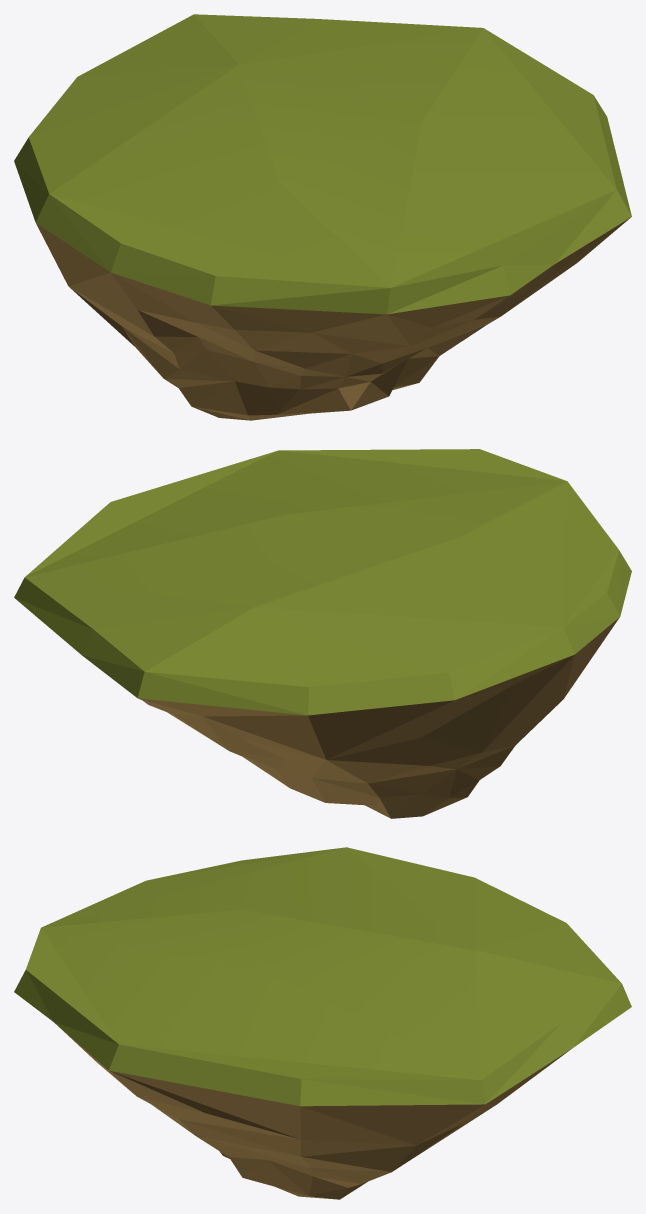
Rendered from Floating Island.fbx.
3 renders of one model, top to bottom at view 1: azimuth 30°, elevation 25°; view 2: azimuth 150°, elevation 25°; view 3: azimuth 270°, elevation 25°, orthographic. The views are drawn at different scales.
Parts seen in each view (by area): view 1: polySurface1; view 2: polySurface1; view 3: polySurface1.
Boxes of the visible parts, x1,y1,x2,y2 form: polySurface1: [14, 14, 631, 420]; polySurface1: [14, 449, 631, 818]; polySurface1: [14, 847, 631, 1199].
Bounding box in the file's own units: 11.46 × 5.39 × 12.73.
